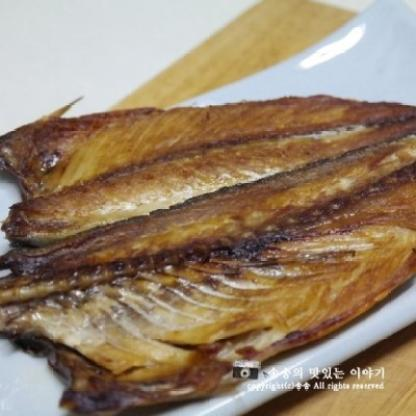Peixe: (0, 76, 416, 416)
